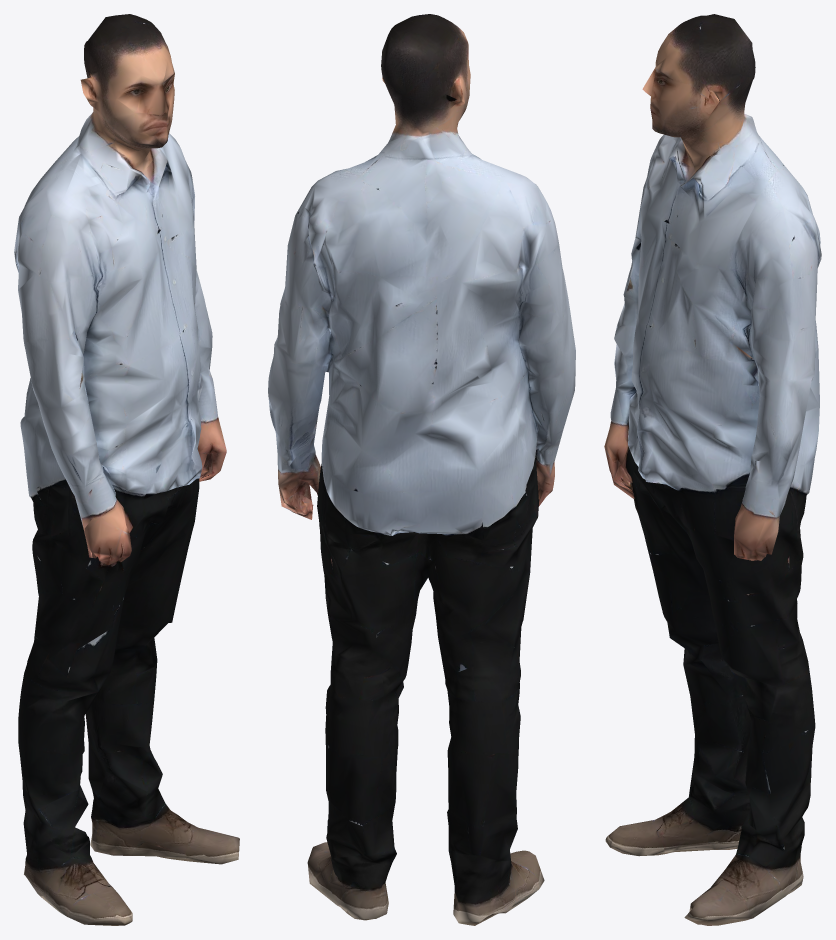
The model's file is person4.glb.
3 renders of one model, left to right at view 1: azimuth 30°, elevation 25°; view 2: azimuth 150°, elevation 25°; view 3: azimuth 270°, elevation 25°, orthographic.
Visible parts, largest first — view 1: Object_5; view 2: Object_5; view 3: Object_5.
Part boxes in pixels (x1,y1,x2,y2): Object_5: (14,14,239,925); Object_5: (268,14,575,925); Object_5: (604,14,821,925).
Bounding box in the file's own units: 0.5489 × 1.9 × 0.4361.
Materials: 1 (1 with a texture image).
